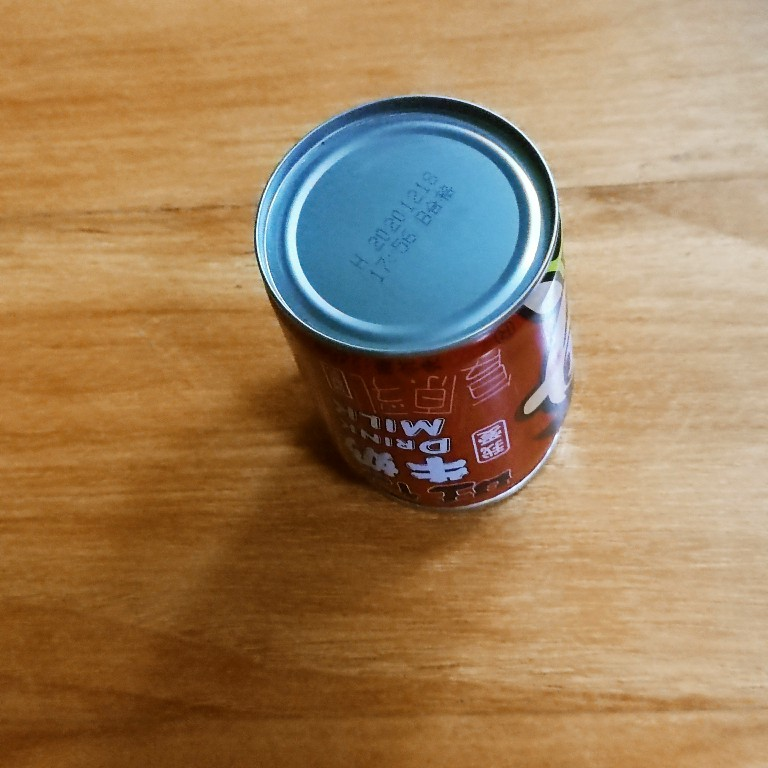can: (245, 88, 583, 521)
